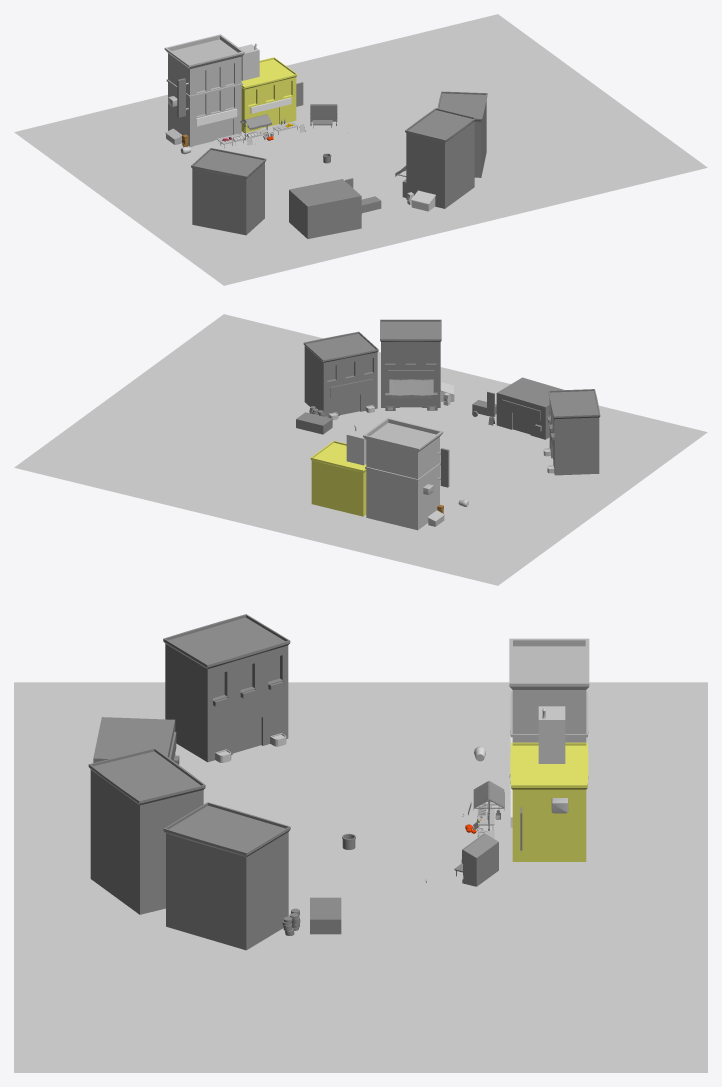
Rendered from prop_steak.FBX.
3 renders of one model, top to bottom at view 1: azimuth 30°, elevation 25°; view 2: azimuth 150°, elevation 25°; view 3: azimuth 270°, elevation 25°, orthographic. The views are drawn at different scales.
Visible parts, largest first — view 1: Plane020, vleeswinkel, sodastore, garagebuilding001, xxxstore, viswinkel, garagebuilding, schuur, Plane019; view 2: Plane020, vleeswinkel, garagebuilding, garagebuilding001, sodastore, viswinkel, xxxstore, kraamzeil001, schuur, auto, garageboard001; view 3: Plane020, garagebuilding, garagebuilding001, sodastore, viswinkel, vleeswinkel, xxxstore, schuur, Plane019, auto.
Boxes of the visible parts, left/top/right/bottom form: Plane020: left=14, top=14, right=707, bottom=285; vleeswinkel: left=164, top=34, right=244, bottom=146; sodastore: left=405, top=108, right=475, bottom=208; garagebuilding001: left=191, top=148, right=266, bottom=235; xxxstore: left=289, top=179, right=361, bottom=238; viswinkel: left=241, top=57, right=297, bottom=132; garagebuilding: left=437, top=91, right=487, bottom=177; schuur: left=239, top=44, right=259, bottom=80; Plane019: left=310, top=104, right=337, bottom=125; Plane020: left=14, top=314, right=707, bottom=585; vleeswinkel: left=363, top=417, right=443, bottom=530; garagebuilding: left=303, top=331, right=378, bottom=416; garagebuilding001: left=548, top=389, right=600, bottom=475; sodastore: left=380, top=319, right=441, bottom=407; viswinkel: left=310, top=441, right=366, bottom=516; xxxstore: left=496, top=377, right=563, bottom=439; kraamzeil001: left=389, top=379, right=433, bottom=398; schuur: left=346, top=429, right=367, bottom=465; auto: left=296, top=412, right=332, bottom=434; garageboard001: left=330, top=379, right=372, bottom=398; Plane020: left=14, top=682, right=707, bottom=1072; garagebuilding: left=163, top=802, right=290, bottom=950; garagebuilding001: left=163, top=614, right=290, bottom=762; sodastore: left=88, top=748, right=205, bottom=914; viswinkel: left=510, top=742, right=588, bottom=861; vleeswinkel: left=509, top=638, right=589, bottom=742; xxxstore: left=93, top=717, right=175, bottom=762; schuur: left=538, top=706, right=565, bottom=763; Plane019: left=461, top=833, right=498, bottom=886; auto: left=310, top=897, right=341, bottom=934.
Size of the model in its own units: 3275 by 2460 by 541.
